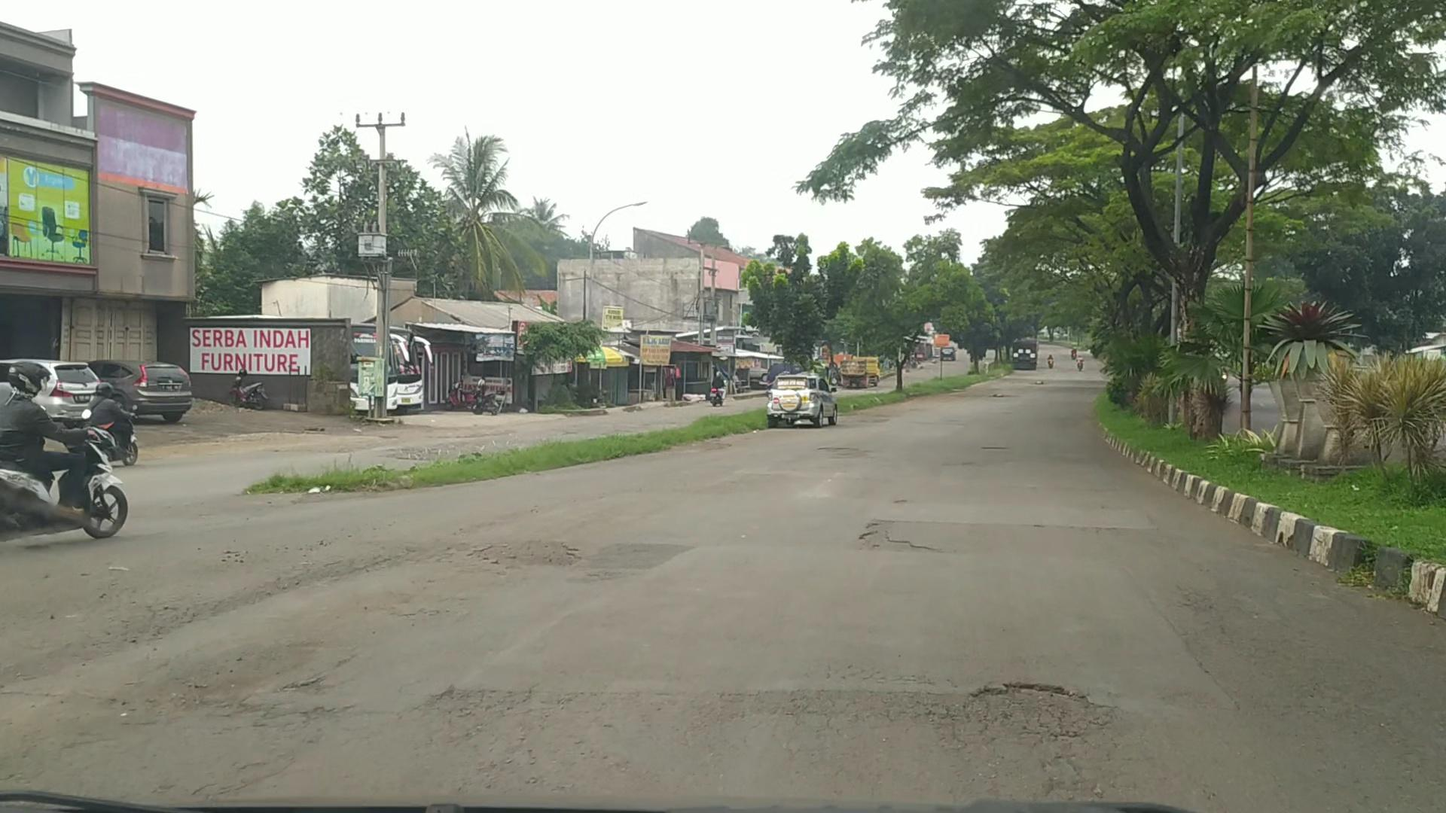pothole: (109, 635, 324, 723), (964, 675, 1103, 730), (465, 536, 585, 574), (862, 512, 946, 566)
